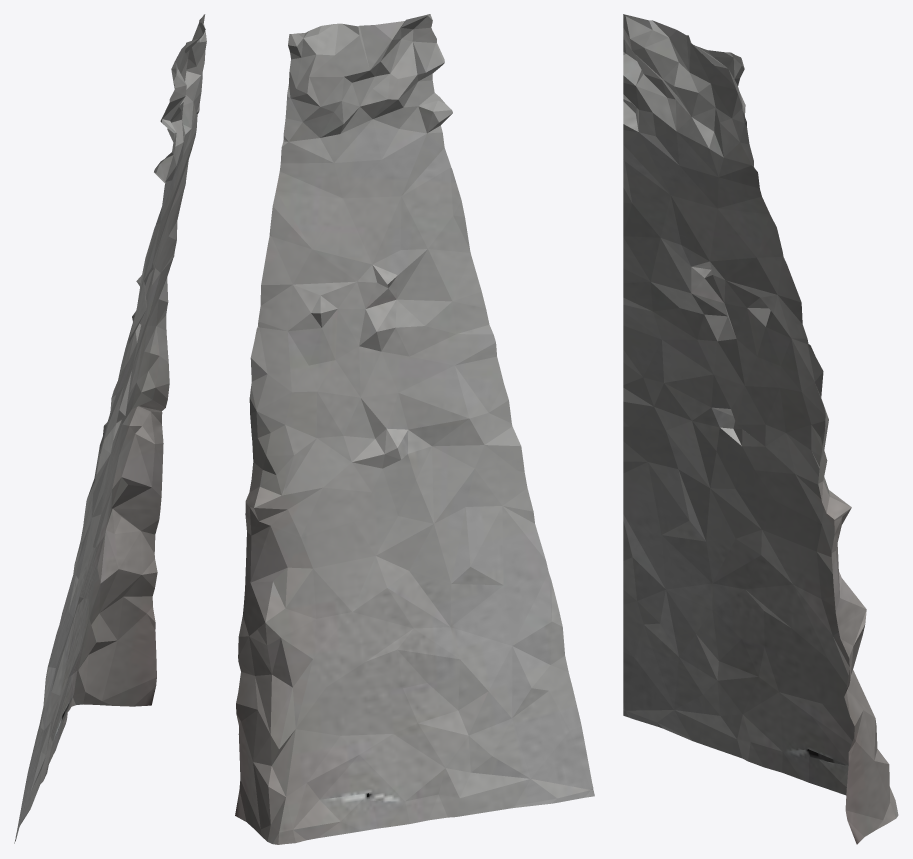
The picture shows the model from 3 angles, left to right: view 1: azimuth 30°, elevation 25°; view 2: azimuth 150°, elevation 25°; view 3: azimuth 270°, elevation 25°; orthographic projection. The views are drawn at different scales.
Size of the model in its own units: 0.2951 by 0.8374 by 0.2653.
1 material, 1 textured.
